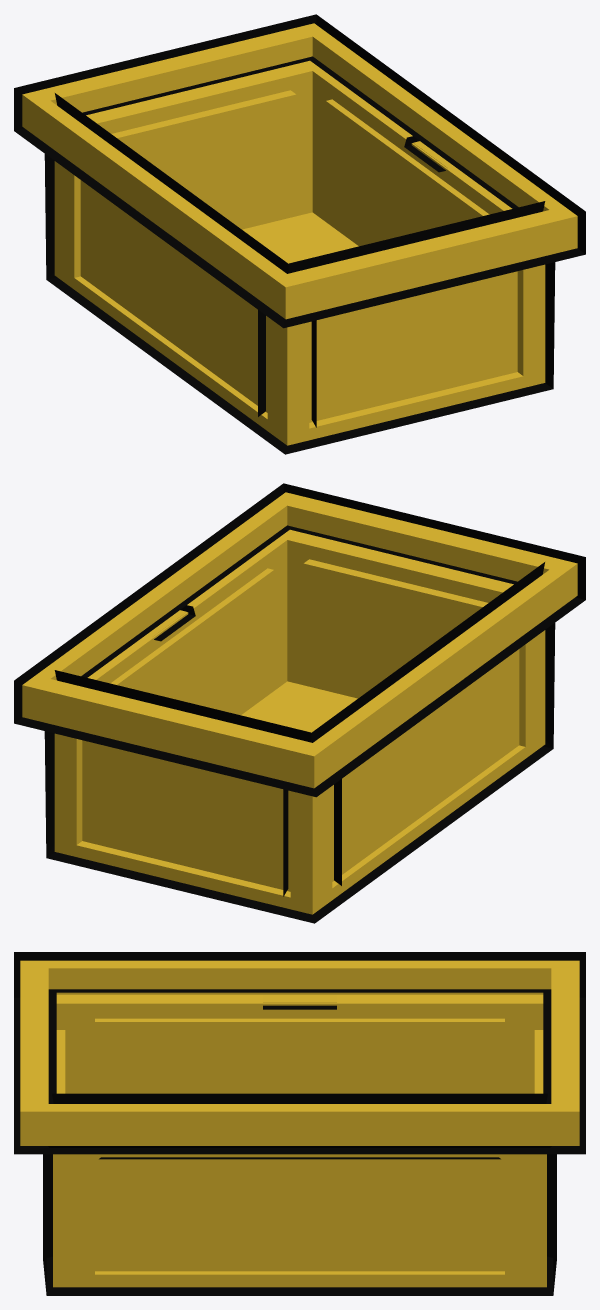
File: WrenchBox.fbx
3 views of the same model, one above another, from view 1: azimuth 30°, elevation 25°; view 2: azimuth 150°, elevation 25°; view 3: azimuth 270°, elevation 25° (orthographic). The views are drawn at different scales.
Visible parts, largest first — view 1: Caixa; view 2: Caixa; view 3: Caixa.
Boxes of the visible parts, x1,y1,x2,y2 form: Caixa: (14, 14, 585, 454); Caixa: (14, 483, 585, 923); Caixa: (14, 952, 585, 1295).
Bounding box in the file's own units: 234 × 139 × 362.
